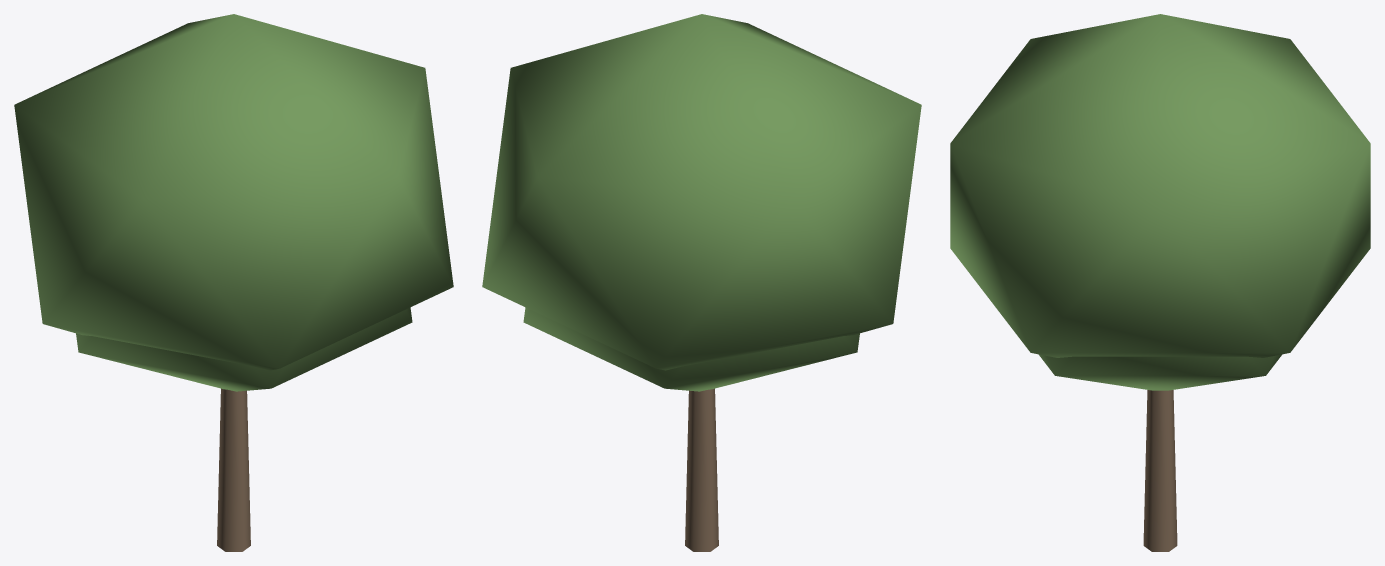
Rendered from trees.glb.
3 views of the same model, side by side, from view 1: azimuth 30°, elevation 25°; view 2: azimuth 150°, elevation 25°; view 3: azimuth 270°, elevation 25° (orthographic).
Visible parts, largest first — view 1: 公園樹, 行道樹, 公園樹_幹; view 2: 公園樹, 行道樹, 公園樹_幹; view 3: 公園樹, 行道樹, 公園樹_幹.
Boxes of the visible parts, x1=… form: 公園樹: x1=14, y1=14, x2=453, y2=370; 行道樹: x1=76, y1=307, x2=412, y2=391; 公園樹_幹: x1=217, y1=388, x2=250, y2=551; 公園樹: x1=482, y1=14, x2=921, y2=370; 行道樹: x1=523, y1=307, x2=859, y2=391; 公園樹_幹: x1=685, y1=388, x2=718, y2=551; 公園樹: x1=950, y1=14, x2=1370, y2=357; 行道樹: x1=1038, y1=354, x2=1282, y2=390; 公園樹_幹: x1=1143, y1=390, x2=1177, y2=551.
Size of the model in its own units: 5.72 by 7.6 by 5.44.
